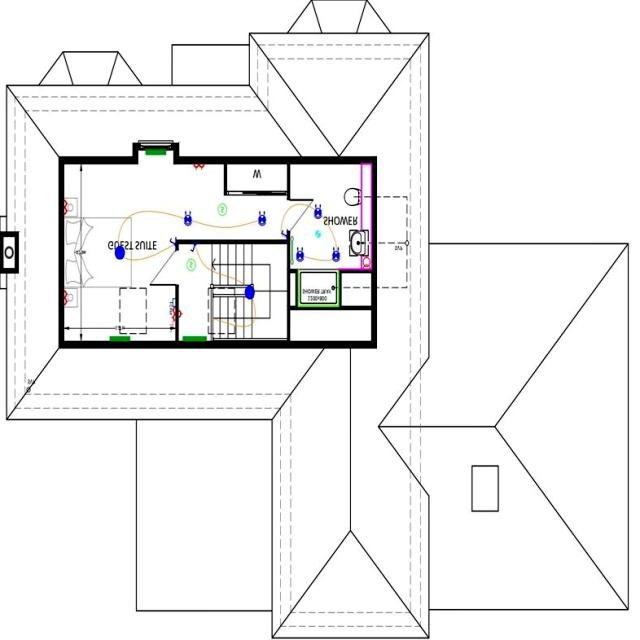Cat 6 Data Socket: (166, 296, 178, 308)
Ceiling Mounted Continuous Extract Fan With Boost Mode Activated By Light Switch: (314, 226, 324, 243)
Co-Ax TV Socket: (168, 320, 176, 333)
Double Socket: (65, 195, 73, 225), (64, 288, 74, 310), (189, 164, 210, 174), (165, 308, 178, 322)
Full Height Tiling: (296, 269, 342, 309)
Light Switch: (188, 244, 200, 258), (168, 236, 178, 251), (281, 228, 289, 241)
Low Energy Downlighter: (180, 208, 197, 230), (296, 240, 310, 266), (255, 208, 272, 229), (308, 202, 326, 220), (330, 245, 344, 265)
Low Energy Pendant Light: (105, 245, 132, 264), (242, 276, 256, 305)
Mains Wired Smoke Detector: (213, 200, 230, 221), (185, 257, 198, 274)
Radiator: (179, 332, 210, 344), (143, 148, 170, 160), (106, 336, 138, 344)
Shaver Socket: (362, 252, 373, 274)
Single Socket: (178, 306, 188, 323)
